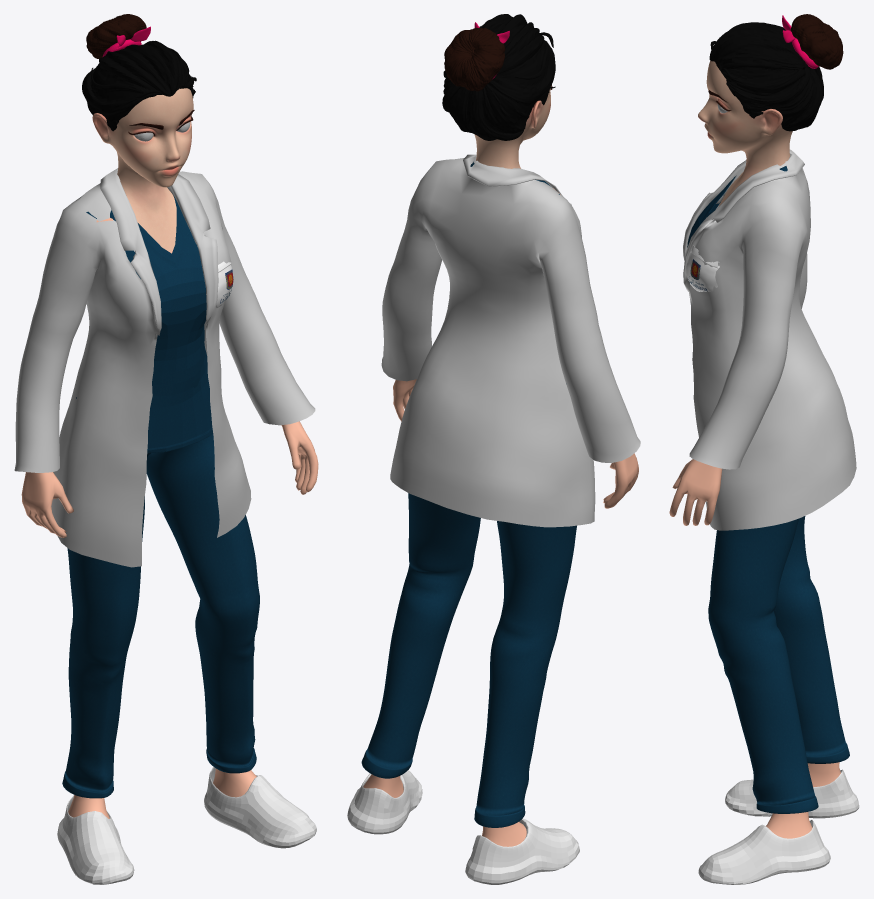
The model's file is Pose_Doctora_BATA.fbx.
3 views of the same model, side by side, from view 1: azimuth 30°, elevation 25°; view 2: azimuth 150°, elevation 25°; view 3: azimuth 270°, elevation 25° (orthographic). The views are drawn at different scales.
Visible parts, largest first — view 1: BATA_LOW-002, pantalon_low, camisa_low_doctora, zapatos_low, face_low, base_head_low-001, body_low_copy1, bollo_low; view 2: BATA_LOW-002, pantalon_low, base_head_low-001, zapatos_low, bollo_low, body_low_copy1, face_low; view 3: BATA_LOW-002, pantalon_low, base_head_low-001, zapatos_low, face_low, body_low_copy1, bollo_low, Bolsillo Camisa.001, camisa_low_doctora, moña.
Boxes of the visible parts, <box> form: BATA_LOW-002: <box>14,168,315,567</box>; pantalon_low: <box>62,378,259,798</box>; camisa_low_doctora: <box>76,196,212,453</box>; zapatos_low: <box>57,767,316,884</box>; face_low: <box>92,88,193,251</box>; base_head_low-001: <box>82,40,196,131</box>; body_low_copy1: <box>21,218,318,818</box>; bollo_low: <box>86,14,146,58</box>; BATA_LOW-002: <box>381,154,640,527</box>; pantalon_low: <box>361,493,576,827</box>; base_head_low-001: <box>442,14,555,140</box>; zapatos_low: <box>347,770,579,884</box>; bollo_low: <box>444,28,505,91</box>; body_low_copy1: <box>363,188,638,846</box>; face_low: <box>474,85,551,168</box>; BATA_LOW-002: <box>683,149,856,530</box>; pantalon_low: <box>708,516,849,813</box>; base_head_low-001: <box>709,22,823,131</box>; zapatos_low: <box>698,769,859,884</box>; face_low: <box>698,60,792,206</box>; body_low_copy1: <box>669,459,840,838</box>; bollo_low: <box>791,14,843,69</box>; Bolsillo Camisa.001: <box>686,245,719,292</box>; camisa_low_doctora: <box>687,166,787,247</box>; moña: <box>782,15,818,68</box>.
Size of the model in its own units: 986 by 2797 by 595.
